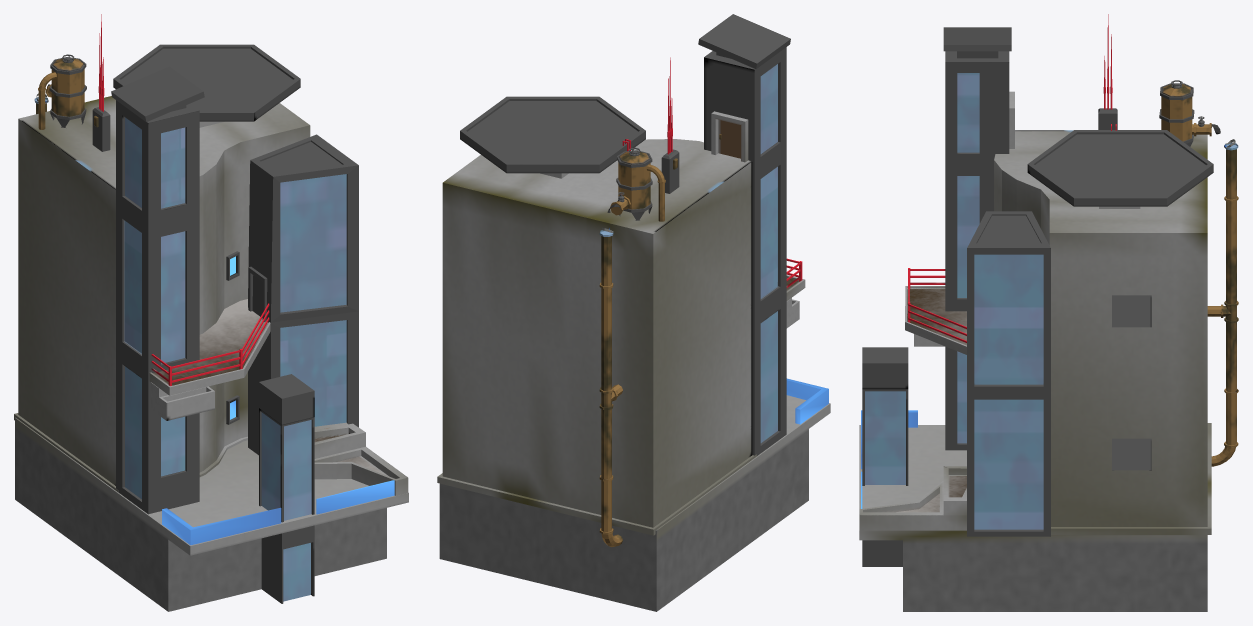
Rendered from Edificio13Mapa.fbx.
The picture shows the model from 3 angles, left to right: view 1: azimuth 30°, elevation 25°; view 2: azimuth 150°, elevation 25°; view 3: azimuth 270°, elevation 25°; orthographic projection.
Visible parts, largest first — view 1: LOD_0; view 2: LOD_0; view 3: LOD_0.
Boxes of the visible parts, x1=… form: LOD_0: x1=14, y1=14, x2=408, y2=611; LOD_0: x1=437, y1=14, x2=830, y2=611; LOD_0: x1=859, y1=14, x2=1238, y2=611.
Size of what is drawn, in the model's own units: 1129 by 2405 by 1622.
